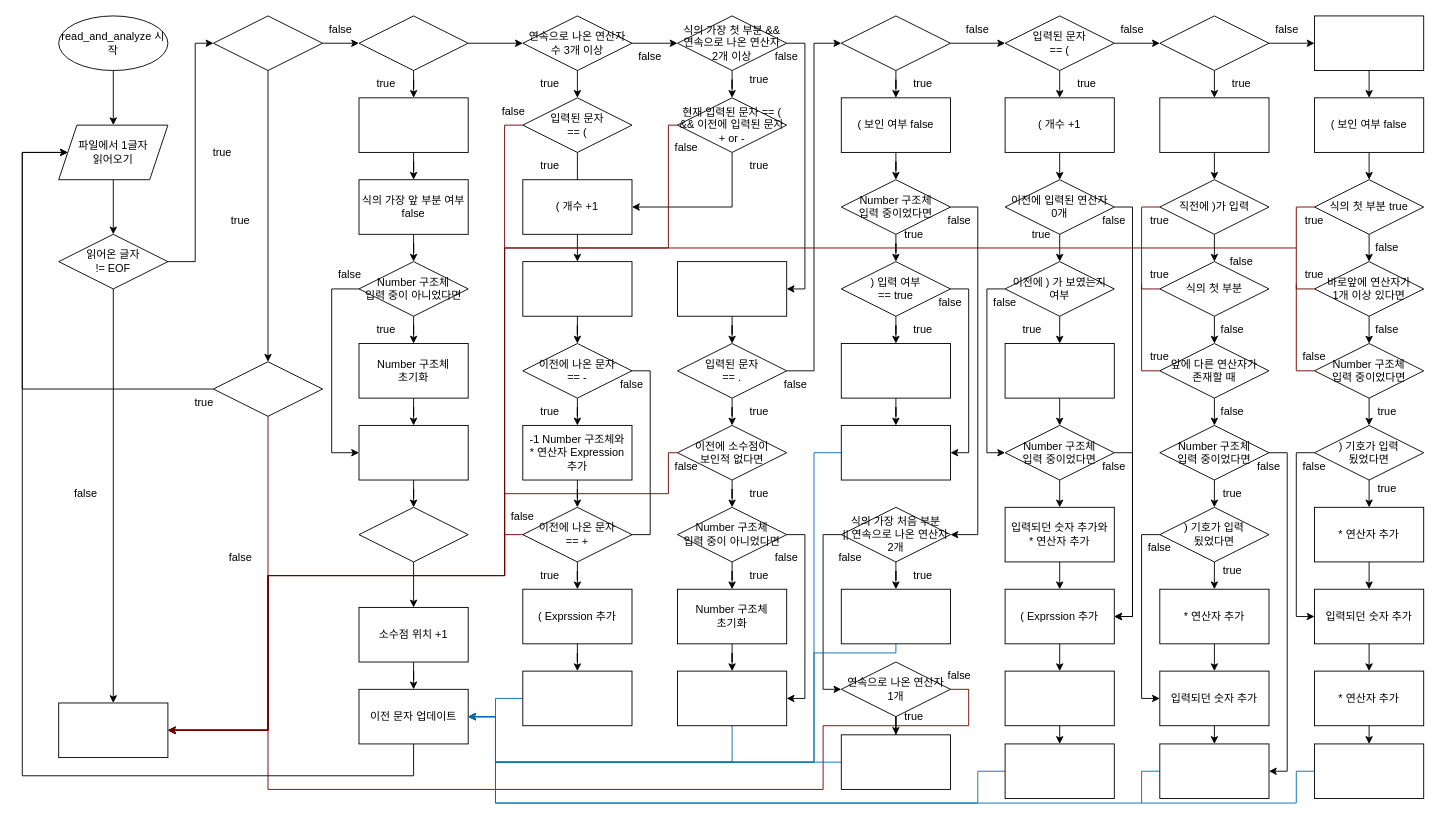
This 1440x826 diagram has some shape labels left out. Here are the shapes that lost their labels. From the top down, the centre of each, then its label:
At point (267, 43): "읽어온 글자 != 허용돤 문자".
At point (413, 43): "읽어온 글자 == 숫자".
At point (895, 43): "입력된 문자 == - or +".
At point (1214, 43): "입력된 문자 == )".
At point (1369, 43): "그 외 입력 (*)".
At point (413, 124): "연속으로 나온 연산자 개수 0 초기화".
At point (1214, 124): ") 개수 +1".
At point (577, 288): "연속으로 나온 연산자 개수 0".
At point (732, 288): "연속으로 나온 연산자 개수 +1".
At point (267, 388): "읽어온 글자 == 공백".
At point (895, 370): ") 와 숫자 표현식 사이에 * 연산자 추가".
At point (1059, 370): ") 와 숫자 표현식 사이에 * 기호 추가".
At point (413, 452): "Number 구조체 끝부분에 숫자 추가".
At point (895, 452): "입력되던 숫자 추가 후 + or - 연산자 추가".
At point (413, 534): "소숫점이 이전에 보인적이 있다면".
At point (895, 616): "+면 양수 -면 음수로 판별".
At point (577, 698): "( 출현 여부 true 식의 가장 첫 부분 true".
At point (732, 698): "소수점이 보였는지 여부 true 연속으로 보인 연산자 수 0".
At point (1059, 698): "연속으로 보인 연산자 수 0 식의 처음 부분 true".
At point (113, 730): "return NULL".
At point (895, 761): "- or + 를 연산자로 보고 추가".
At point (1059, 771): "( 출현 여부 true ) 출현 여부 false".
At point (1214, 771): ") 추가 연속 연산자 수 0 식 처음부분 fasle ) 출현 여부 true".
At point (1369, 771): ") 출현 여부 false".
